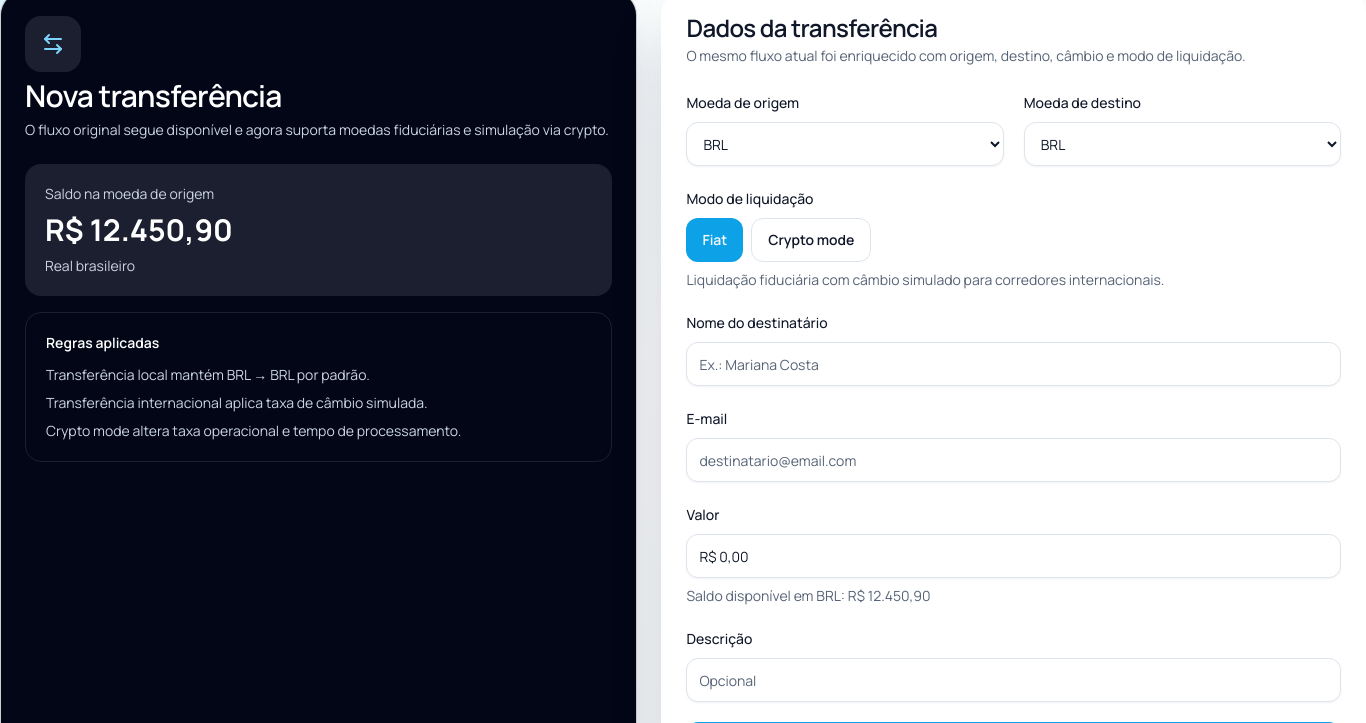
Test: transfer flow › submits a transfer and refreshes balance, history and success toast
In the field labelled "Nome do destinatário": (1014, 364) [686,342,1341,386], type "Mariana Costa"
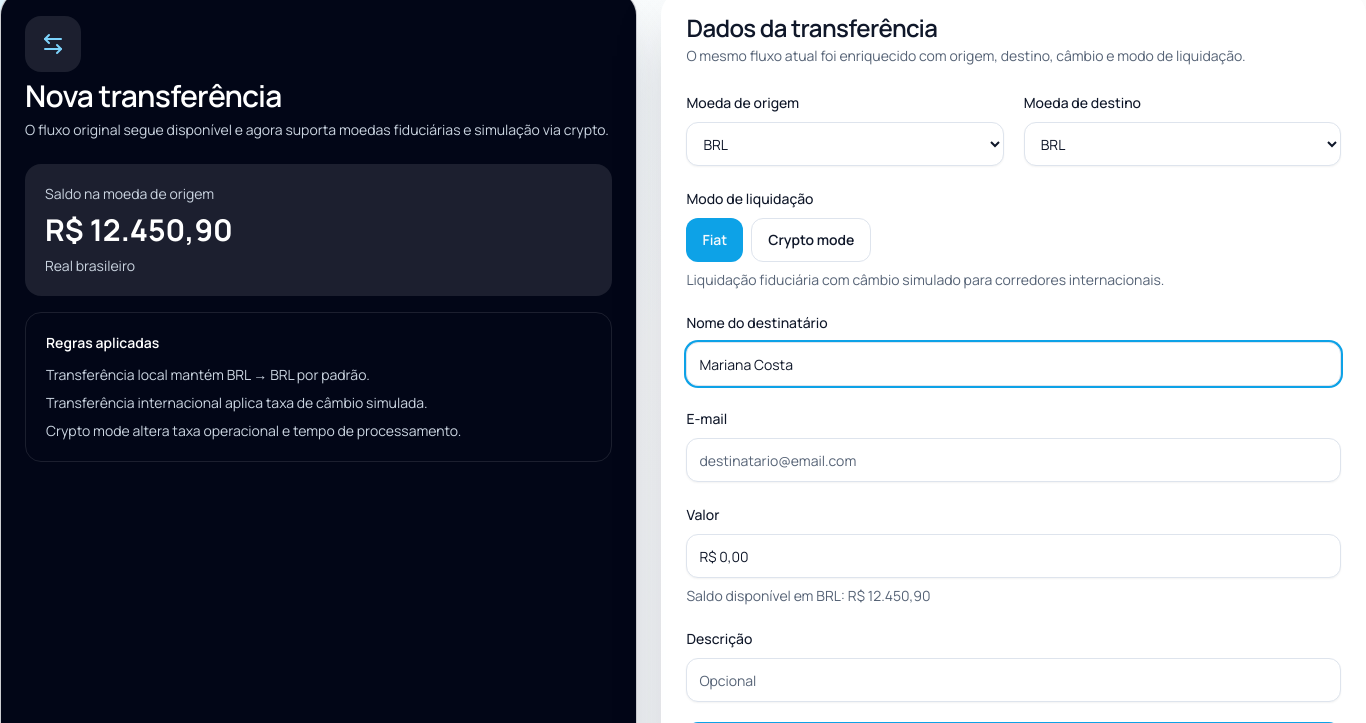
In the field labelled "E-mail": (1014, 460) [686,438,1341,482], type "mariana@email.com"
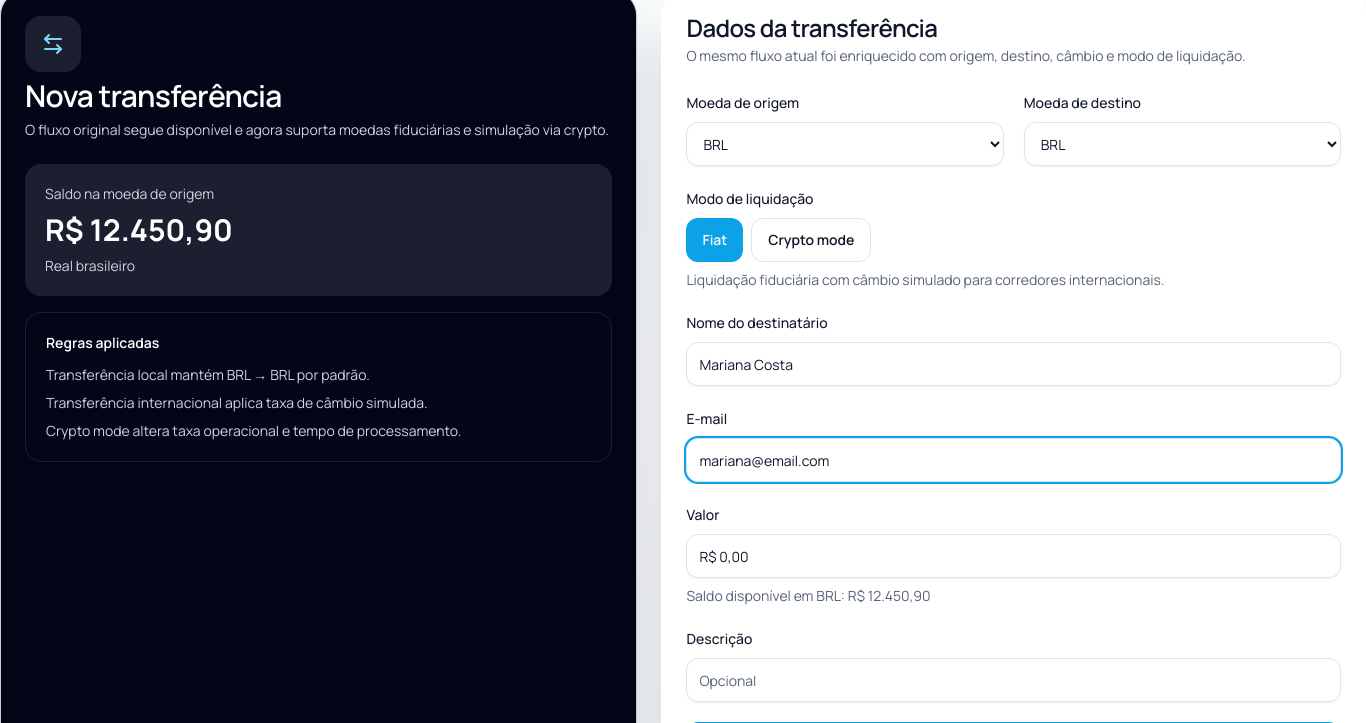
In the field labelled "Valor": (1014, 556) [686,534,1341,578], type "15050"
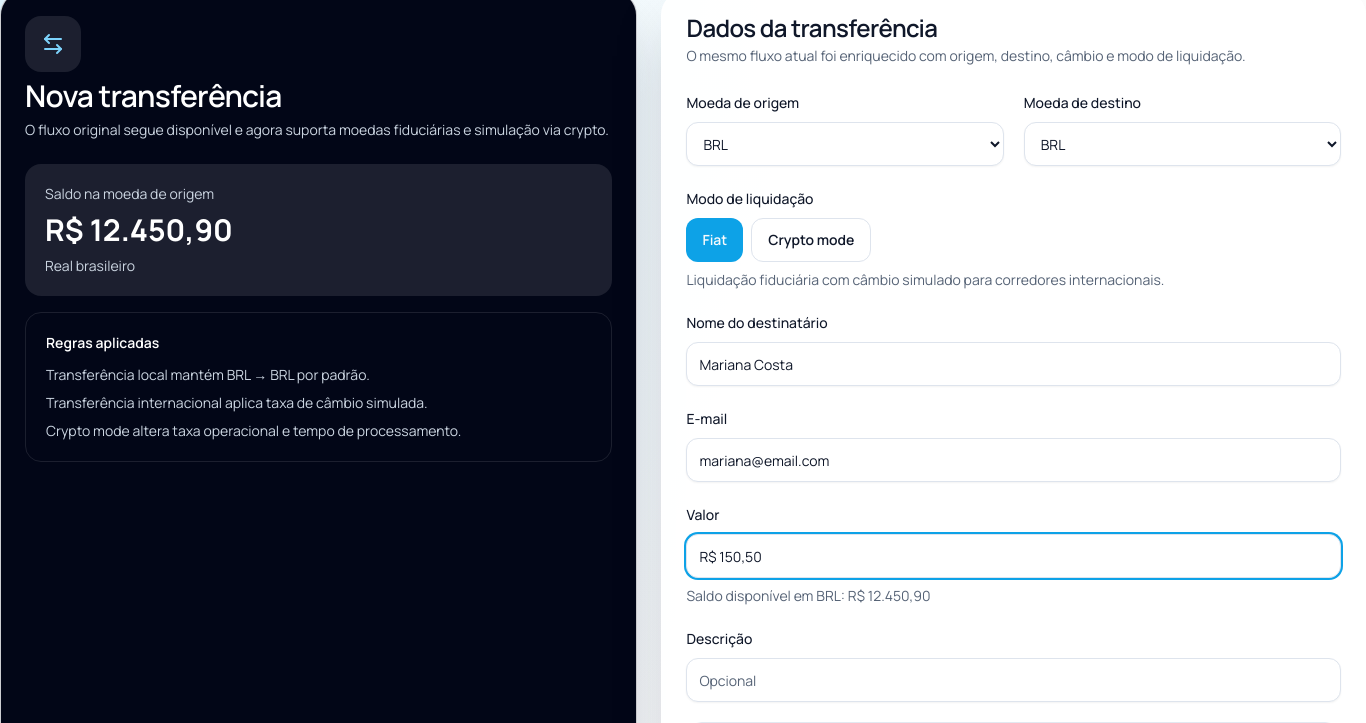
In the field labelled "Descrição": (1014, 680) [686,658,1341,702], type "Pagamento de serviço"
(page scrolled)
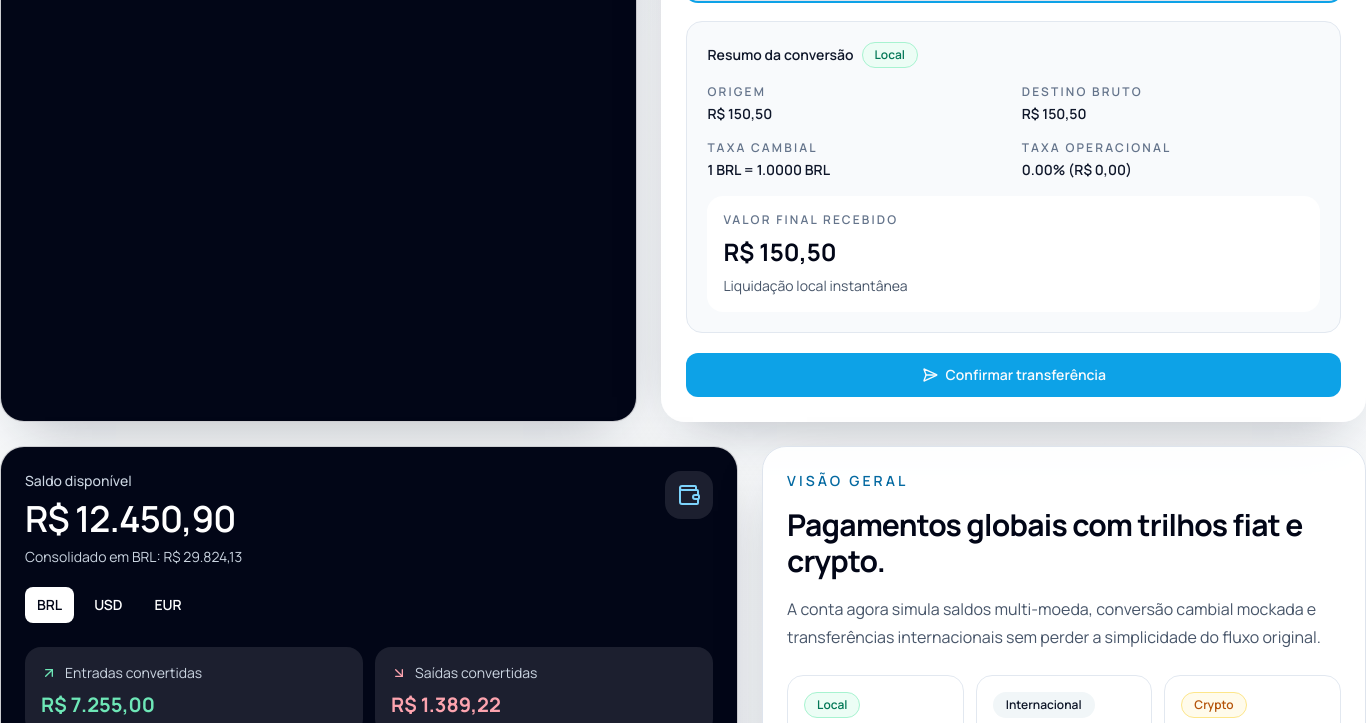
Click the button "Confirmar transferência": (1014, 375) [686,353,1341,397]
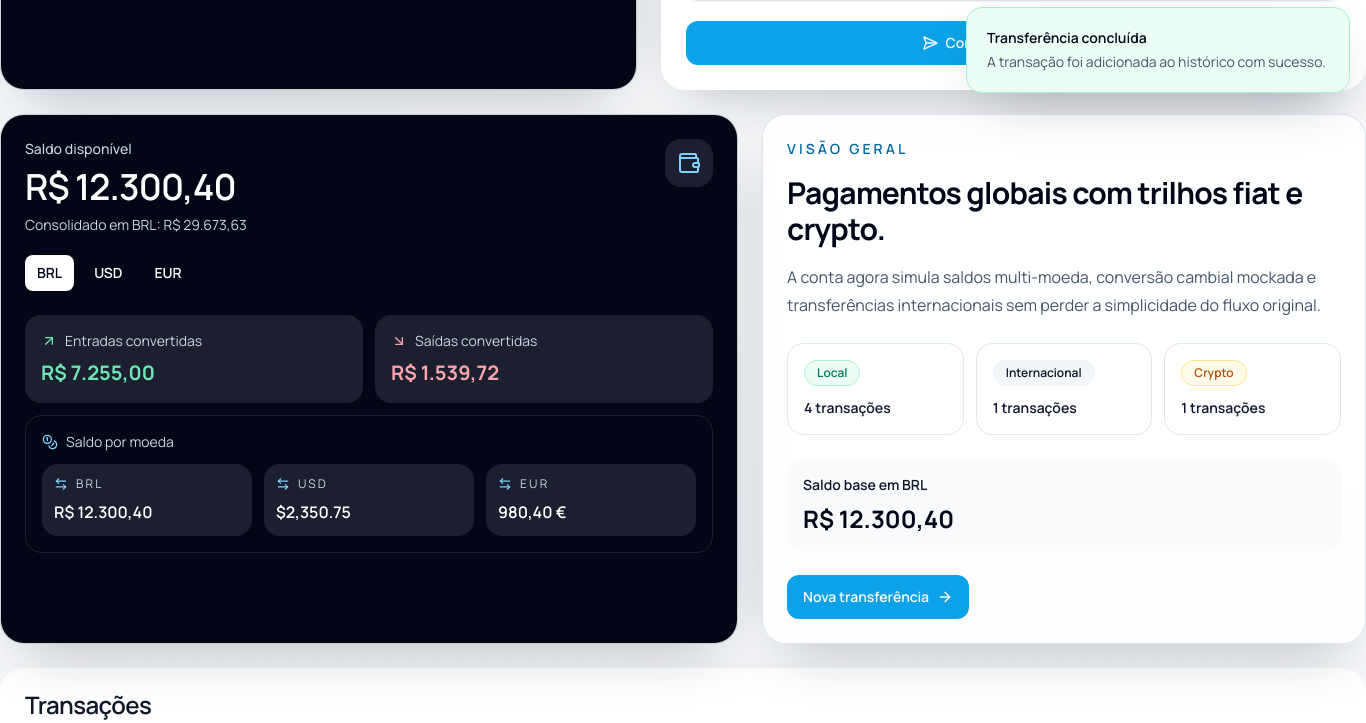
Check: the text "Transferência concluída" is shown, box [987,28,1147,47]
Check: the text "A transação foi adicionada ao histórico com sucesso." is shown, box [987,52,1329,72]
